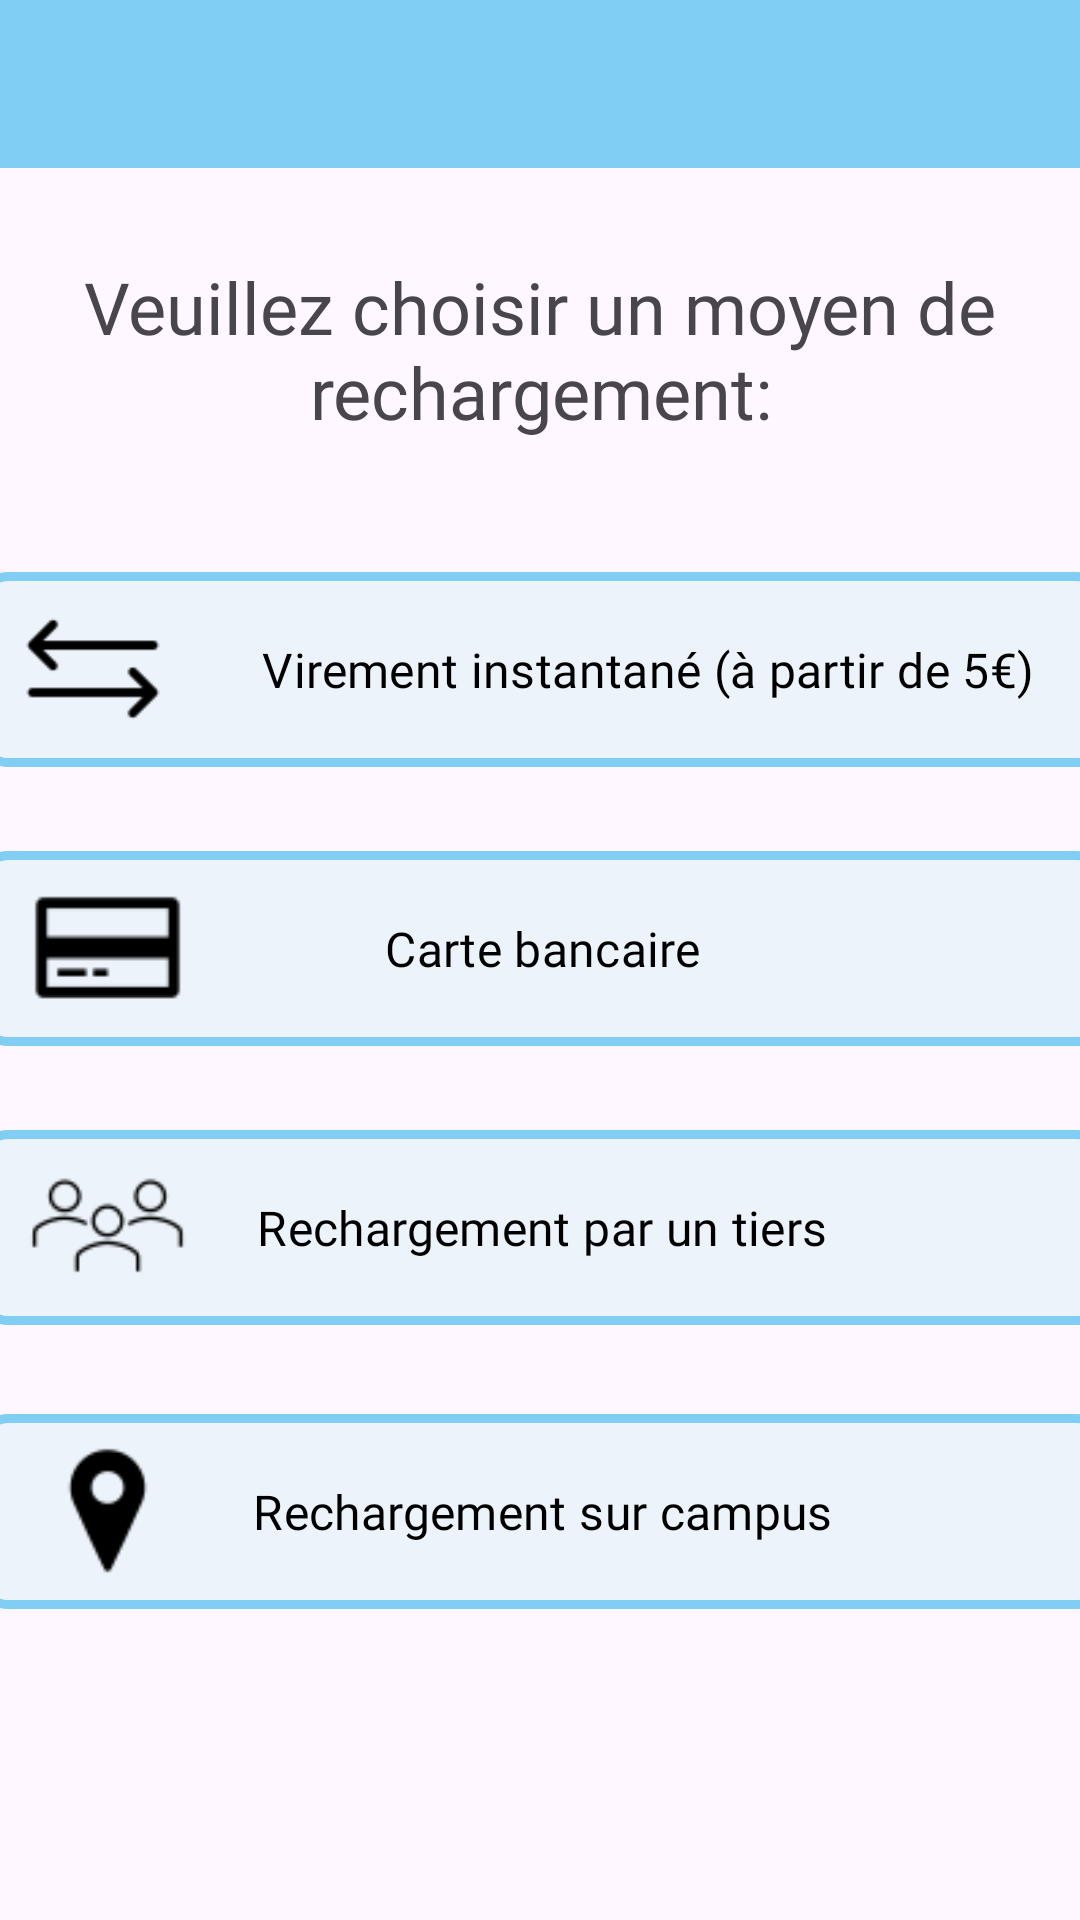

Icon click points for this 1080×1920 phone screenshot, format (x=x, y=y):
maps: (x=107, y=1510)
trois personnes: (x=108, y=1225)
